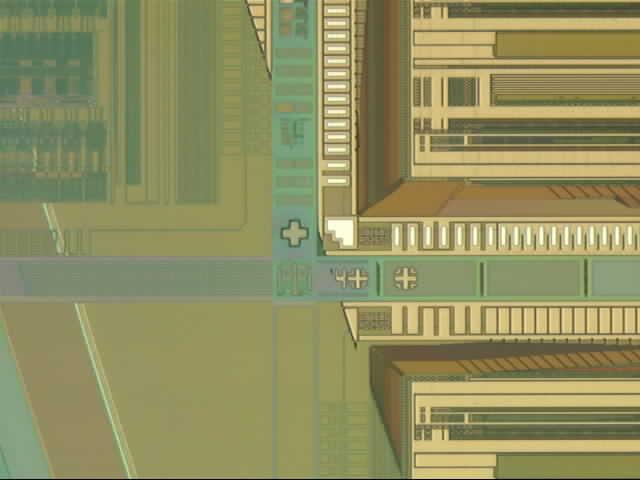COATING BAD: (1, 1, 406, 480)
